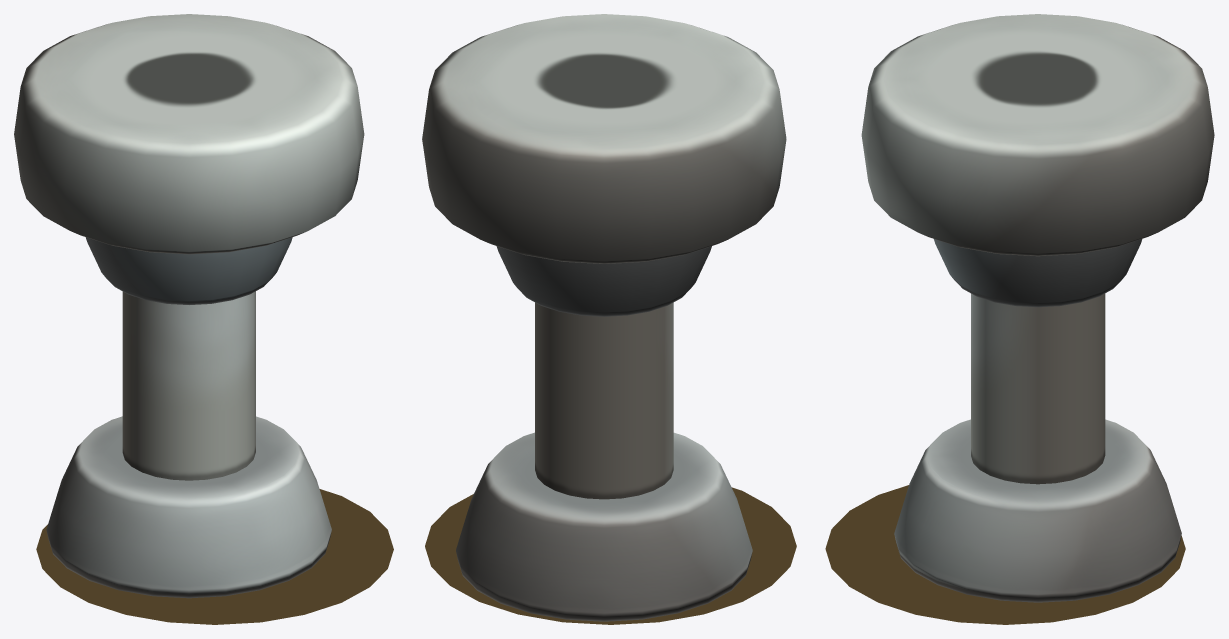
Rendered from Veg_Fountain.fbx.
3 renders of one model, left to right at view 1: azimuth 30°, elevation 25°; view 2: azimuth 150°, elevation 25°; view 3: azimuth 270°, elevation 25°, orthographic. The views are drawn at different scales.
Visible parts, largest first — view 1: fountain_body, fountain_SDW; view 2: fountain_body, fountain_SDW; view 3: fountain_body, fountain_SDW.
Part boxes in pixels (box(x1,y1,x2,y2)): fountain_body: box(14, 14, 364, 598); fountain_SDW: box(36, 489, 393, 624); fountain_body: box(422, 14, 786, 621); fountain_SDW: box(425, 487, 796, 624); fountain_body: box(861, 14, 1214, 602); fountain_SDW: box(825, 485, 1185, 624).
Bounding box in the file's own units: 43.87 × 61.09 × 46.37.
2 materials, 1 textured.
